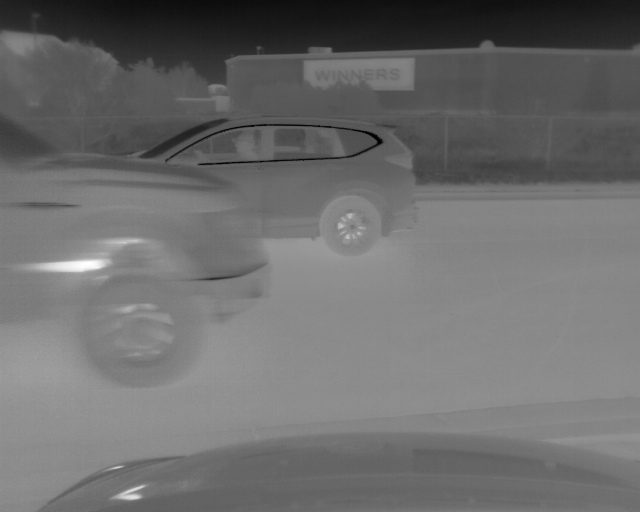car: (1, 114, 269, 388), (137, 115, 421, 254)
